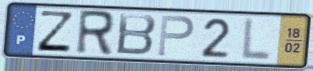2: (201, 16, 233, 59)
B: (115, 11, 159, 57)
L: (239, 16, 274, 63)
P: (155, 13, 196, 58)
R: (73, 9, 116, 58)
Z: (34, 9, 76, 54)
